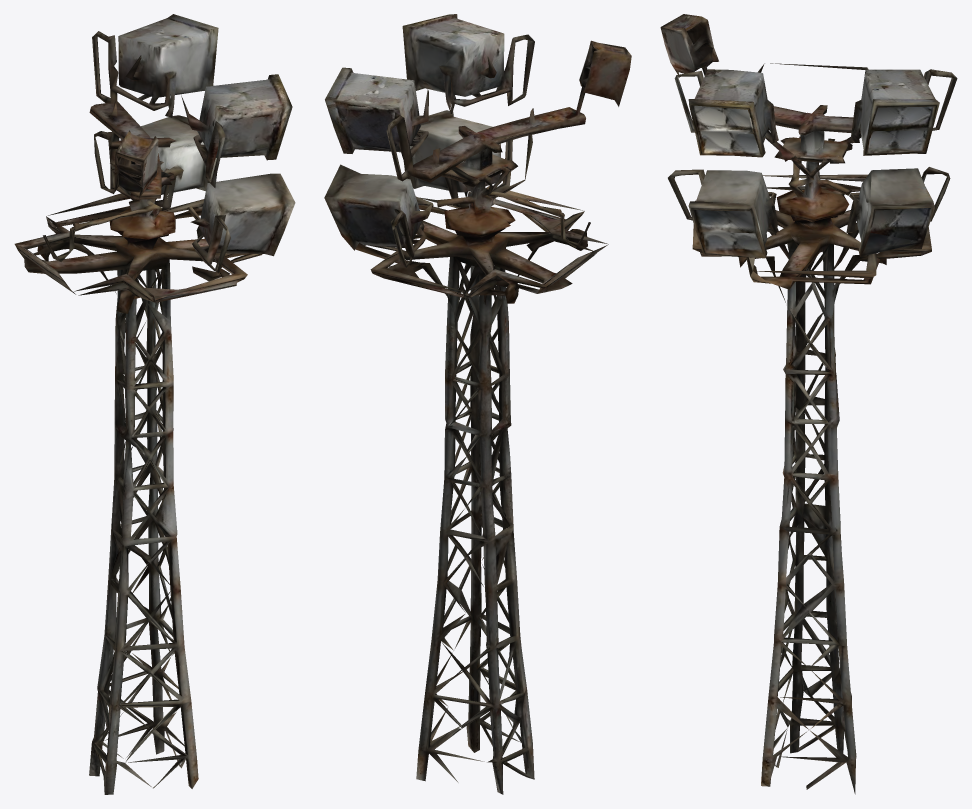
The model's file is qr_floodlight.glb.
3 renders of one model, left to right at view 1: azimuth 30°, elevation 25°; view 2: azimuth 150°, elevation 25°; view 3: azimuth 270°, elevation 25°, orthographic. The views are drawn at different scales.
Visible parts, largest first — view 1: tripo_node_920fc686-1170-420f-97e4-33786a2e3a91; view 2: tripo_node_920fc686-1170-420f-97e4-33786a2e3a91; view 3: tripo_node_920fc686-1170-420f-97e4-33786a2e3a91.
Boxes of the visible parts, box(x1,y1,x2,y2) form: tripo_node_920fc686-1170-420f-97e4-33786a2e3a91: box(14, 14, 295, 794); tripo_node_920fc686-1170-420f-97e4-33786a2e3a91: box(324, 14, 631, 794); tripo_node_920fc686-1170-420f-97e4-33786a2e3a91: box(660, 14, 957, 794).
Size of the model in its own units: 0.3204 by 1 by 0.3713.
1 material, 1 textured.
